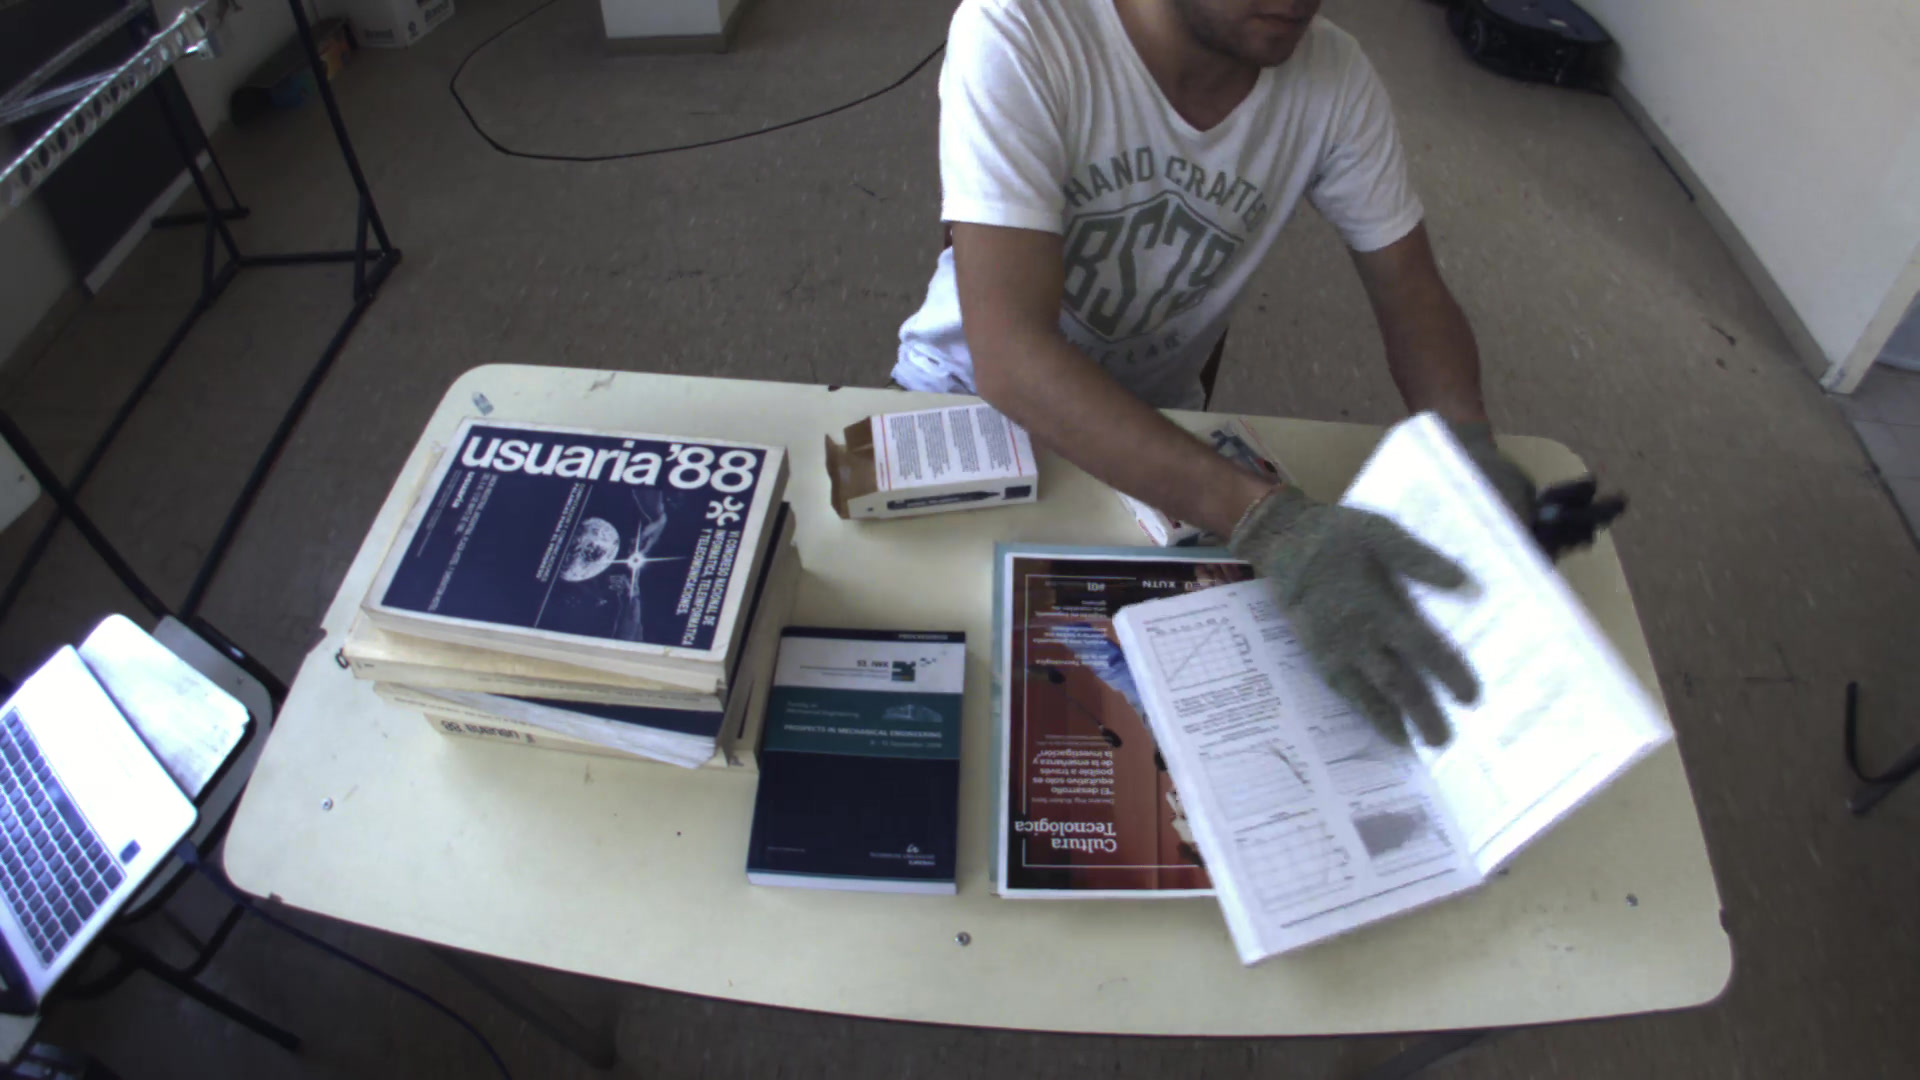hand: (1211, 475, 1497, 756)
